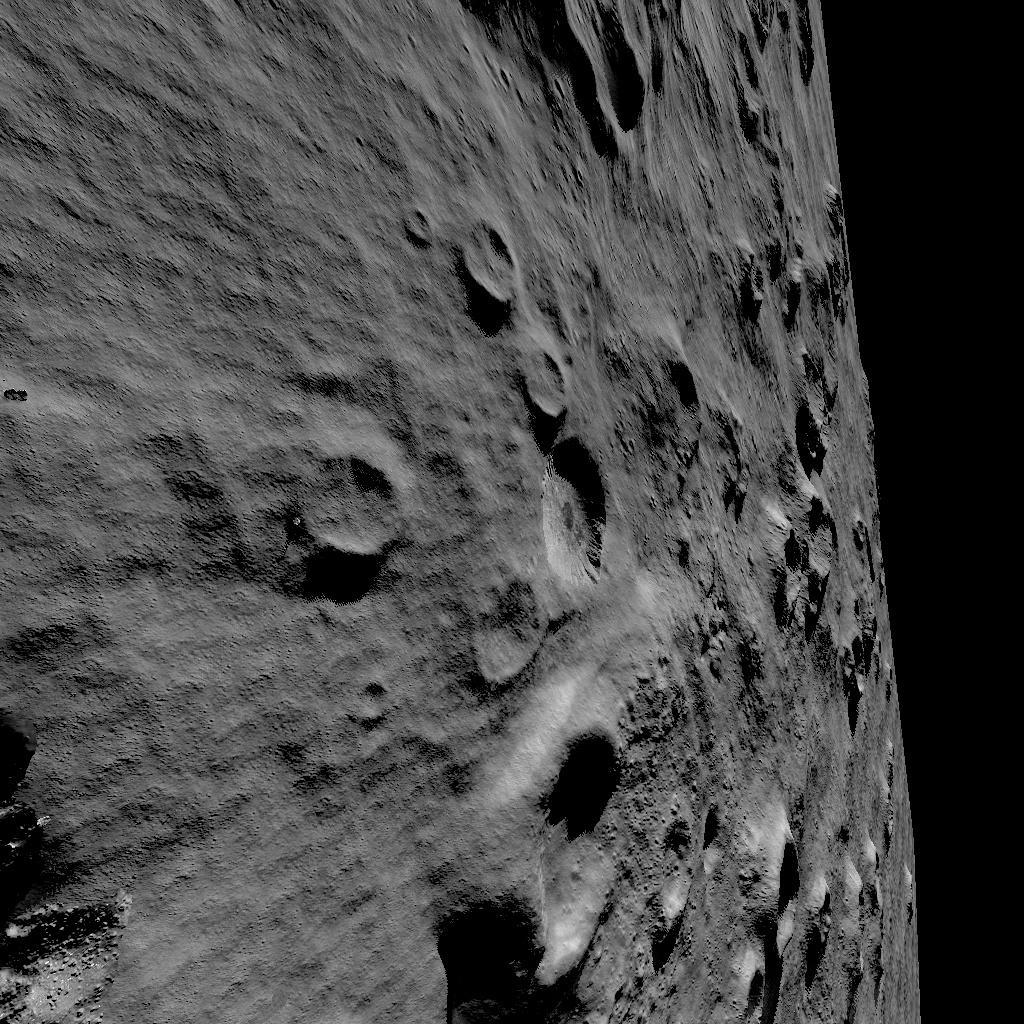Boulders: (0, 672, 141, 1024)
Crater: (448, 680, 633, 1024), (458, 218, 616, 592), (654, 792, 902, 1024), (466, 0, 695, 163), (784, 360, 890, 710), (738, 182, 858, 346), (648, 360, 766, 523), (736, 0, 825, 163), (296, 448, 408, 568)
Plan surface: (0, 0, 440, 430), (158, 678, 436, 1024), (0, 445, 213, 660)
